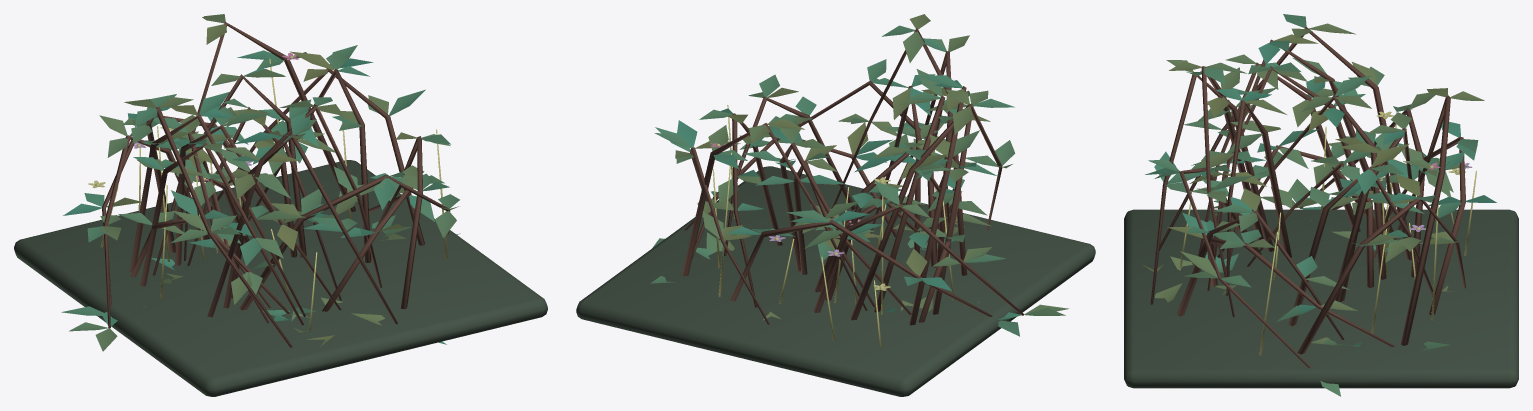
Rendered from garden_tangle.glb.
The picture shows the model from 3 angles, left to right: view 1: azimuth 30°, elevation 25°; view 2: azimuth 150°, elevation 25°; view 3: azimuth 270°, elevation 25°; orthographic projection. The views are drawn at different scales.
Visible parts, largest first — view 1: garden_tangle; view 2: garden_tangle; view 3: garden_tangle.
Boxes of the visible parts, left/top/right/bottom form: garden_tangle: left=14, top=14, right=547, bottom=396; garden_tangle: left=576, top=14, right=1095, bottom=396; garden_tangle: left=1124, top=14, right=1518, bottom=396.
Size of what is drawn, in the model's own units: 1.78 by 0.994 by 1.5.
